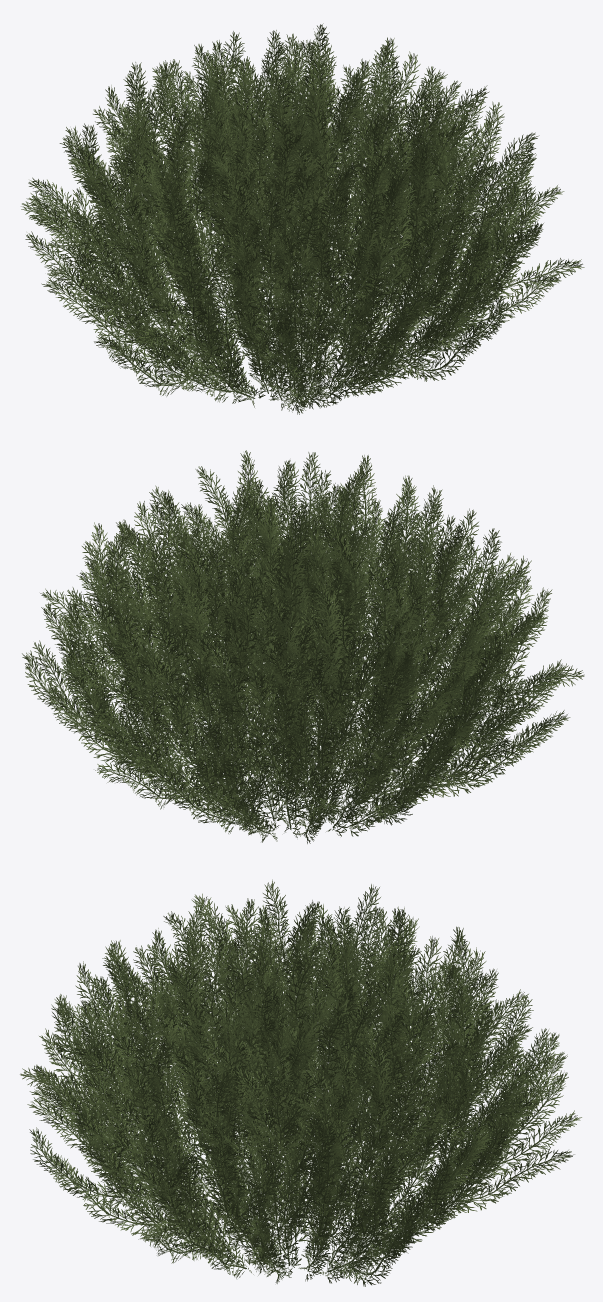
File: Artemisia_Californica_03.fbx
3 renders of one model, top to bottom at view 1: azimuth 30°, elevation 25°; view 2: azimuth 150°, elevation 25°; view 3: azimuth 270°, elevation 25°, orthographic. The views are drawn at different scales.
Visible parts, largest first — view 1: Artemisia_californica_C001; view 2: Artemisia_californica_C001; view 3: Artemisia_californica_C001.
Boxes of the visible parts, x1,y1,x2,y2 form: Artemisia_californica_C001: [21, 23, 584, 414]; Artemisia_californica_C001: [22, 450, 584, 843]; Artemisia_californica_C001: [20, 879, 581, 1286].
Bounding box in the file's own units: 137 × 84.41 × 131.
